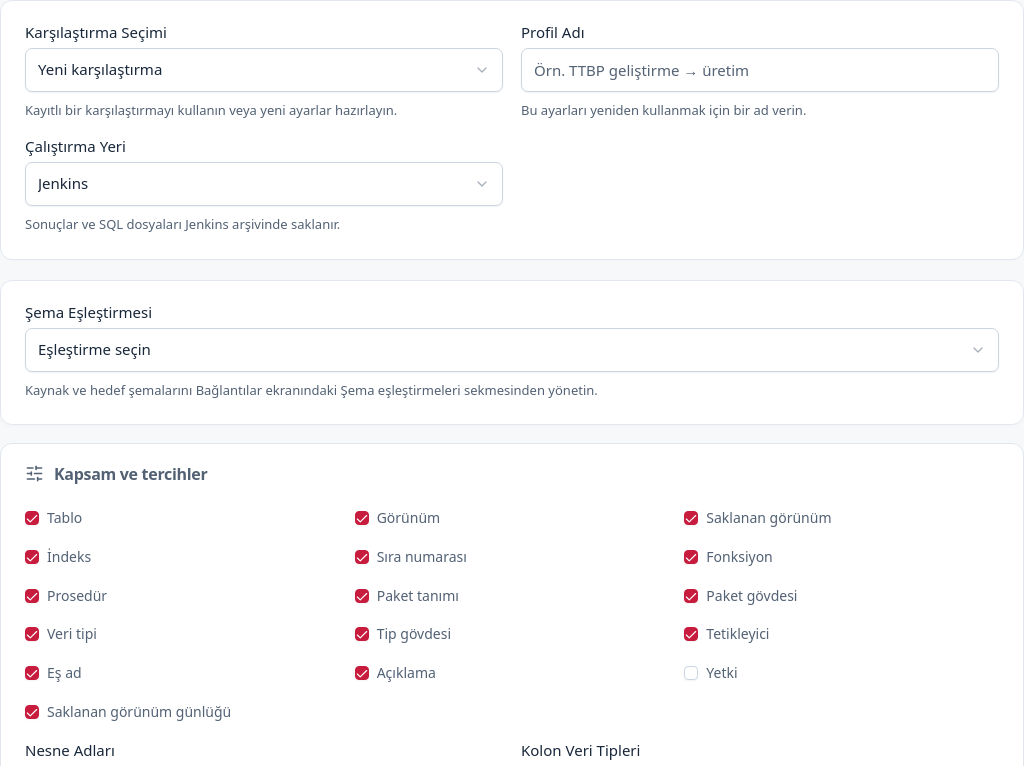
Test: loads portable source filters and selects the local executor visibly
Click the dropdown named "Şema Eşleştirmesi": coordinates (94, 349) [25,328,999,372]
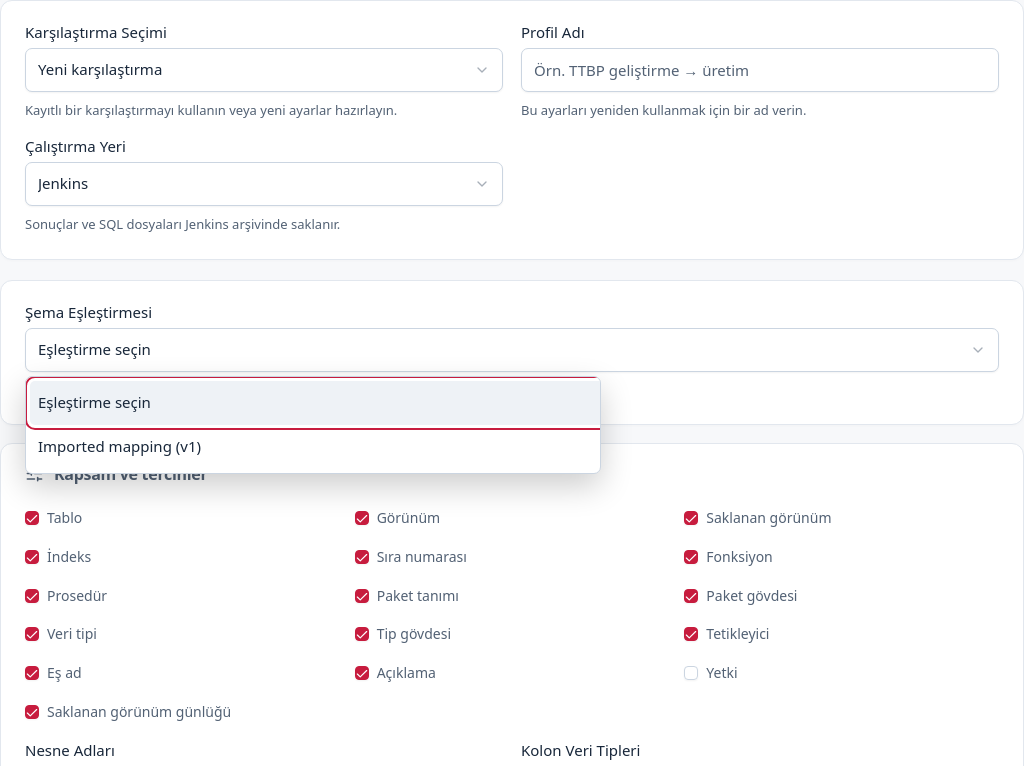
Click the option "Imported mapping (v1)": coordinates (120, 446) [38,436,201,456]
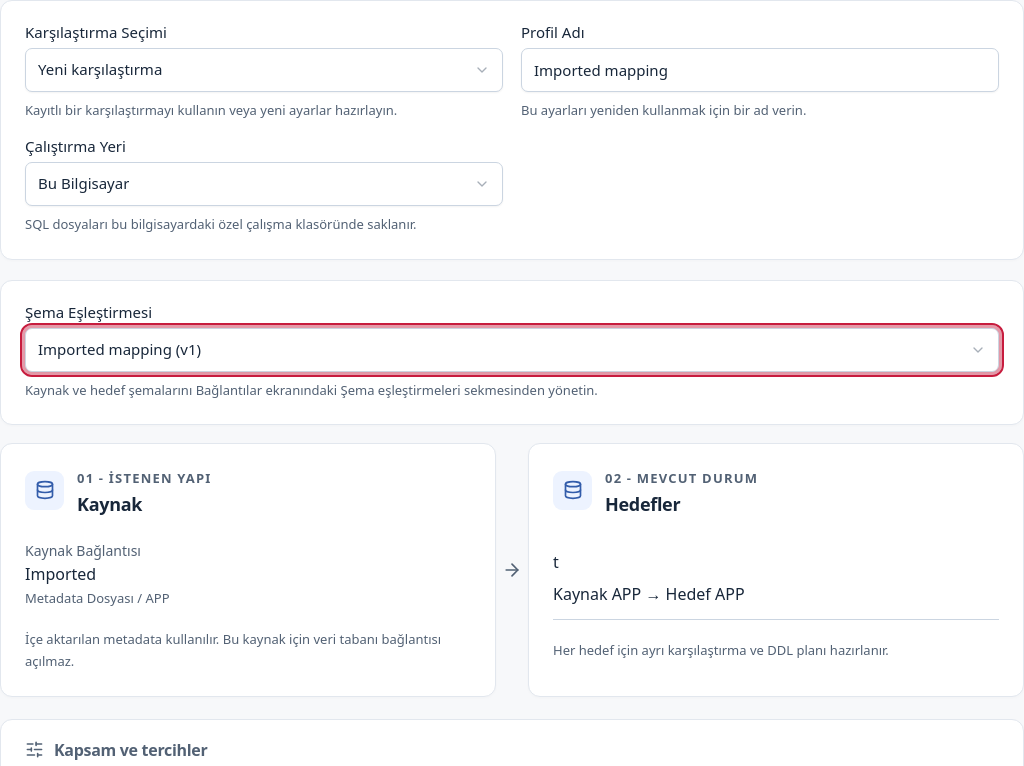
Expected: the dropdown named "Çalıştırma Yeri" reads "Bu Bilgisayar", [25,162,503,206]
